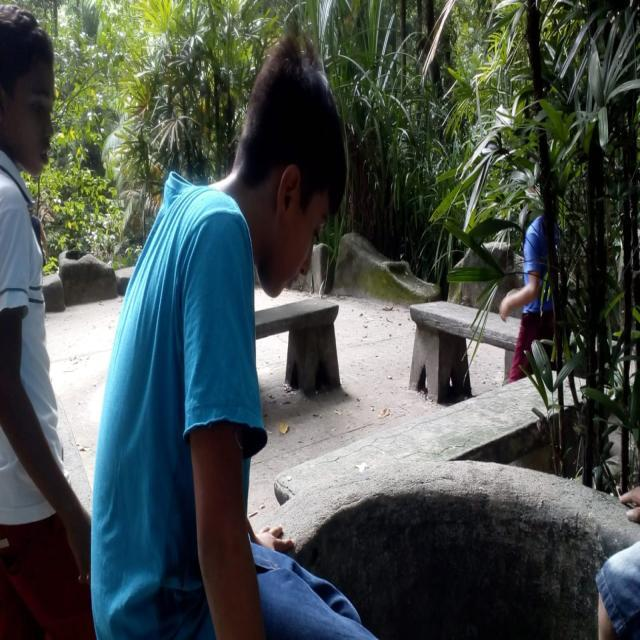em_pe: (0, 9, 90, 639), (500, 172, 569, 383)
sentado: (92, 40, 368, 639)
